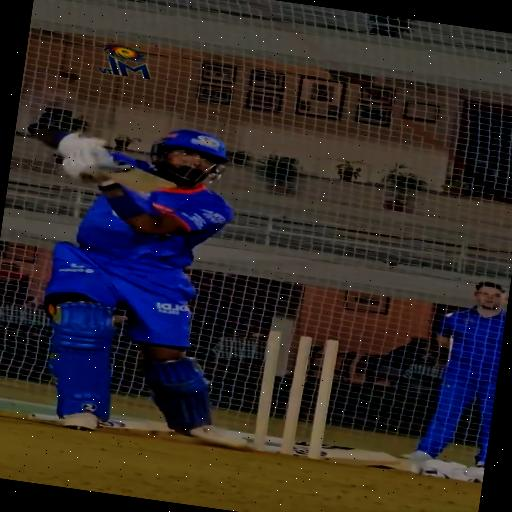Cricket bat: (103, 165, 174, 192)
